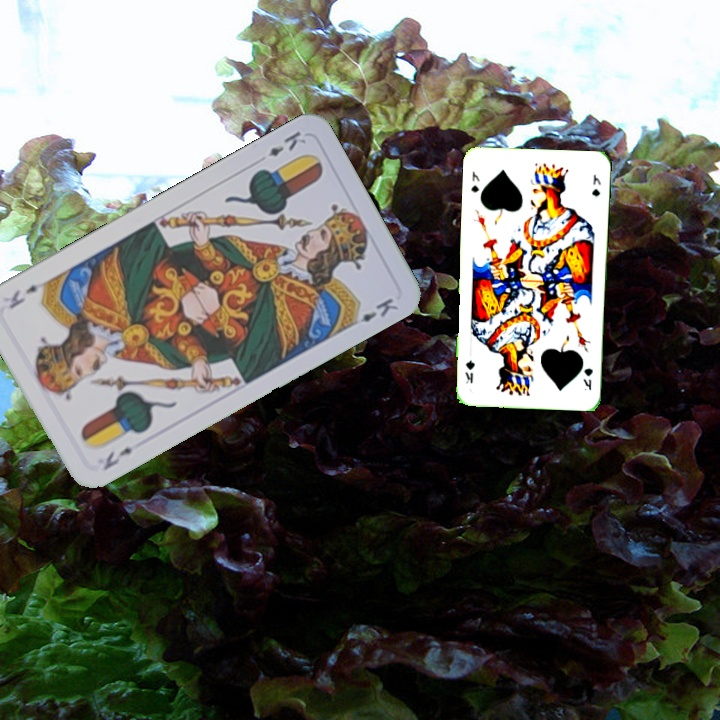EK: (265, 127, 309, 159), (99, 443, 136, 473)
GK: (580, 364, 595, 393), (467, 167, 482, 195)
